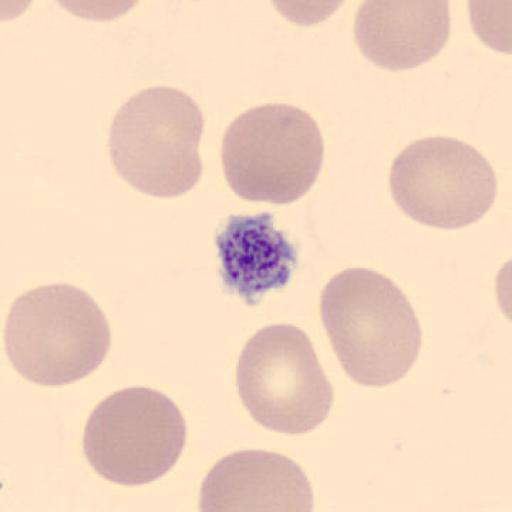Platelet: (211, 210, 301, 306)
RBC: (318, 264, 423, 389), (232, 320, 335, 437), (2, 282, 113, 388), (105, 84, 205, 201), (218, 100, 326, 206), (80, 384, 188, 490), (386, 133, 499, 232), (196, 445, 315, 512), (352, 0, 453, 72), (466, 0, 512, 55), (267, 0, 355, 28), (48, 0, 152, 23), (492, 248, 512, 327), (493, 256, 512, 324), (0, 0, 38, 24)
